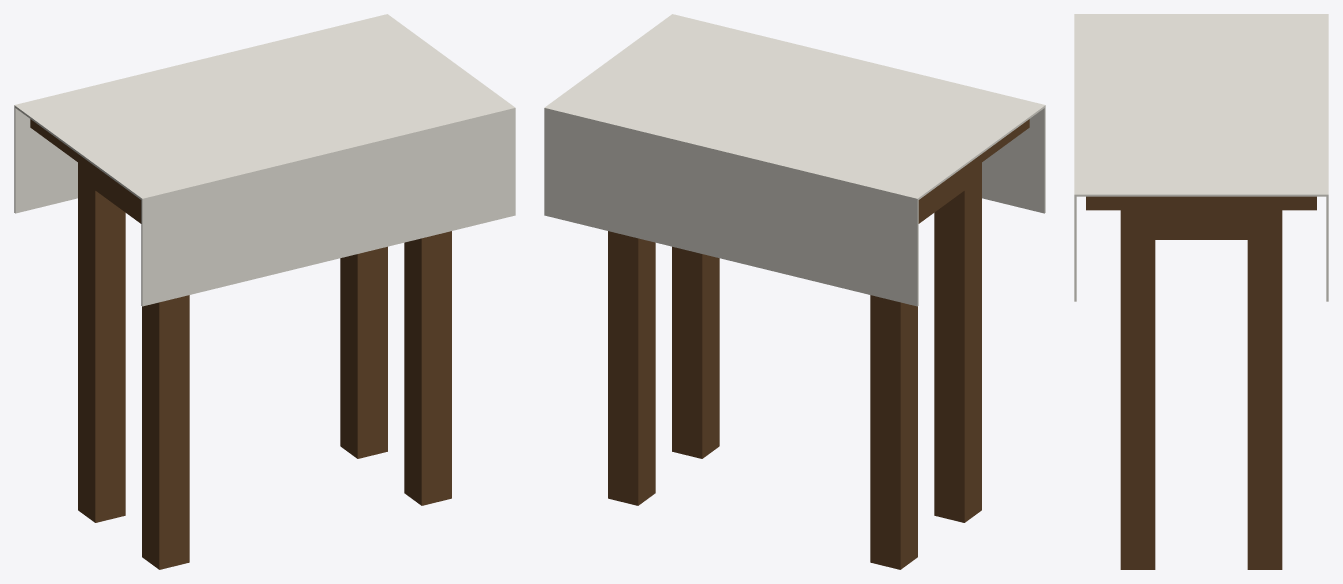
3 views of the same model, side by side, from view 1: azimuth 30°, elevation 25°; view 2: azimuth 150°, elevation 25°; view 3: azimuth 270°, elevation 25° (orthographic).
Parts seen in each view (by area): view 1: parametric-variant-table-1st-pub-45610a6774e299d7a737; view 2: parametric-variant-table-1st-pub-45610a6774e299d7a737; view 3: parametric-variant-table-1st-pub-45610a6774e299d7a737.
Boxes of the visible parts, <box> form: parametric-variant-table-1st-pub-45610a6774e299d7a737: <box>14,14,515,569</box>; parametric-variant-table-1st-pub-45610a6774e299d7a737: <box>544,14,1045,569</box>; parametric-variant-table-1st-pub-45610a6774e299d7a737: <box>1074,14,1328,569</box>.
Size of the model in its own units: 0.74 by 0.754 by 0.44.
